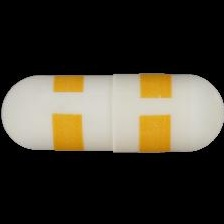63187-079: (0, 0, 224, 224)
